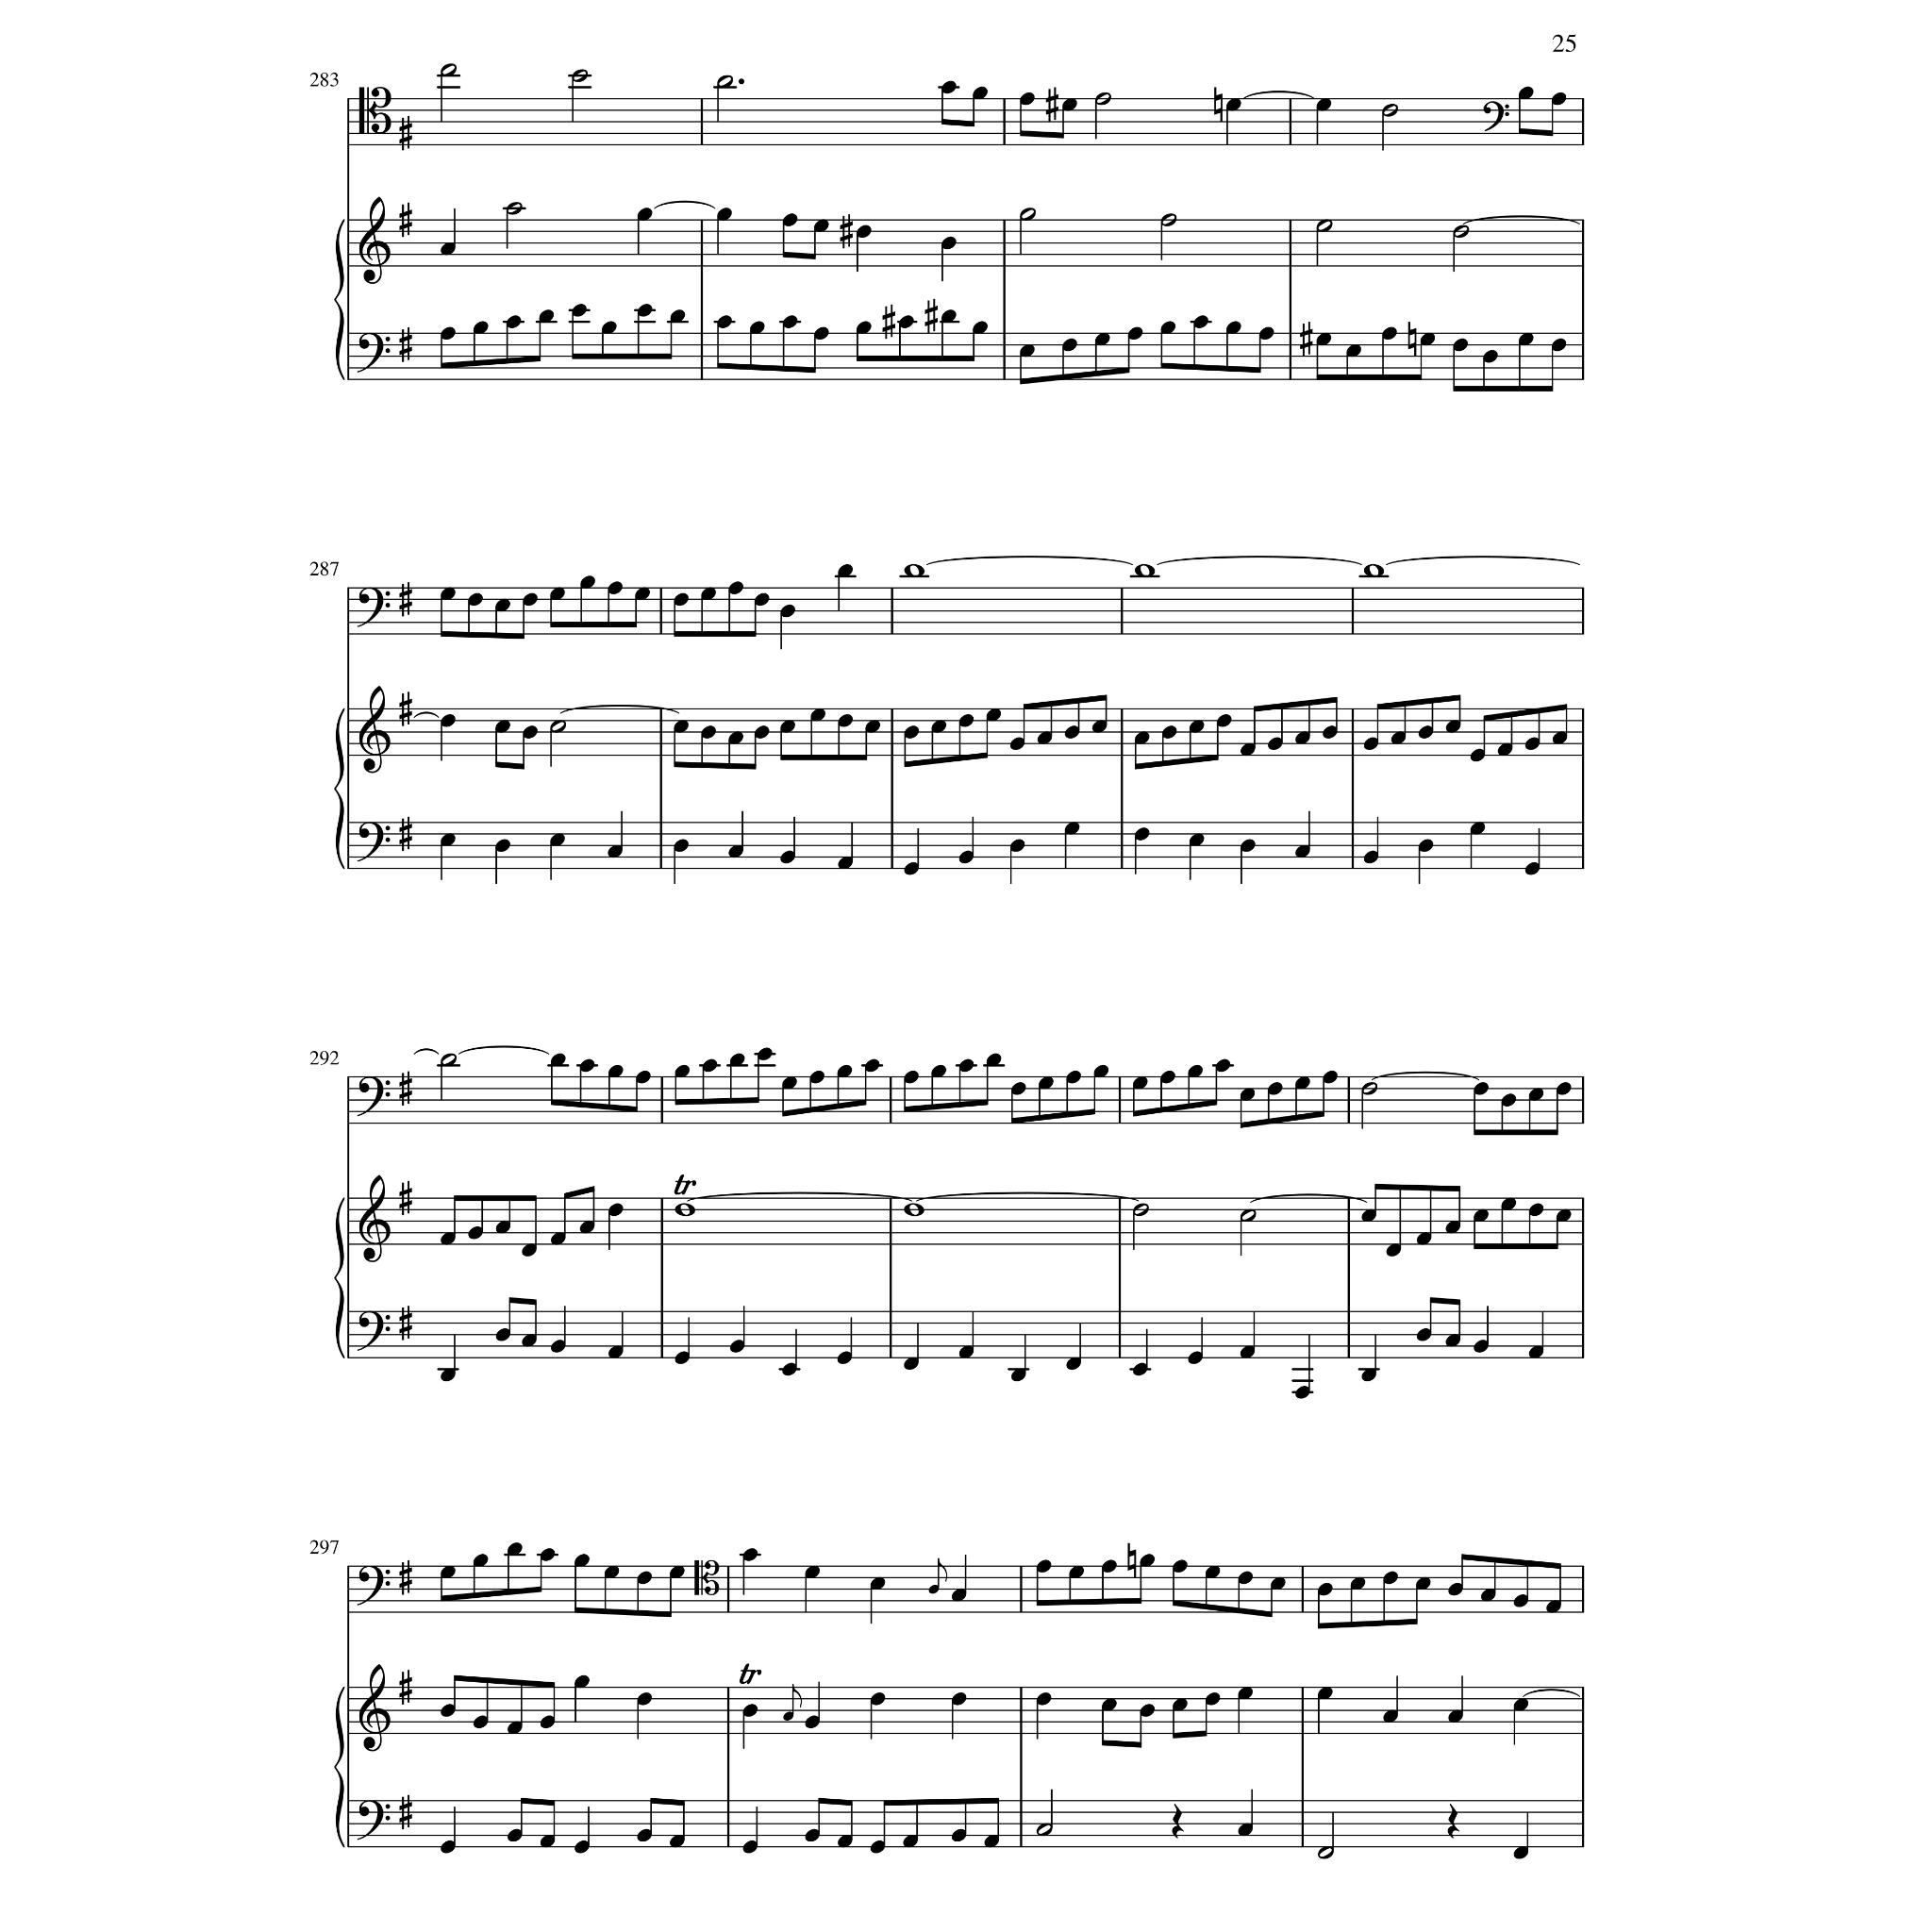brace: (333, 219, 344, 381), (333, 1197, 344, 1359), (333, 1686, 344, 1848), (333, 709, 344, 870)
fClef: (357, 332, 391, 374), (357, 587, 391, 628), (357, 1800, 391, 1841), (357, 823, 391, 862), (357, 1311, 391, 1351), (357, 1077, 391, 1117), (357, 1566, 391, 1606)
flag8thUp: (792, 1684, 802, 1708), (938, 1558, 947, 1583)
gClef: (358, 196, 391, 285), (358, 686, 391, 774), (358, 1174, 391, 1263), (358, 1663, 391, 1752)
noteheadBlack: (1345, 343, 1362, 358), (1019, 343, 1036, 358), (781, 213, 798, 228), (1036, 730, 1053, 745), (1551, 730, 1568, 745), (1294, 730, 1311, 745), (1158, 1070, 1175, 1085), (636, 1828, 653, 1843), (804, 1828, 821, 1843), (741, 1547, 758, 1562), (1134, 730, 1149, 745), (1064, 821, 1079, 836), (1470, 821, 1485, 836), (1391, 730, 1406, 745), (608, 581, 623, 596), (728, 730, 743, 745), (728, 581, 743, 596), (1215, 1058, 1230, 1074), (1323, 1070, 1338, 1085), (1066, 1070, 1081, 1085), (579, 1058, 594, 1074), (636, 1070, 651, 1085), (904, 1070, 919, 1085), (864, 1058, 879, 1074), (958, 1058, 974, 1074), (702, 1058, 717, 1074), (809, 1070, 824, 1085), (540, 1547, 555, 1562), (508, 1828, 523, 1843), (951, 1828, 966, 1843), (1192, 315, 1209, 328), (1315, 333, 1332, 346), (1315, 98, 1332, 111), (1126, 327, 1143, 341), (1517, 333, 1534, 346), (1517, 87, 1534, 100), (1381, 327, 1398, 341), (1419, 333, 1436, 346), (636, 304, 653, 317), (636, 208, 653, 221), (600, 322, 617, 335), (538, 309, 555, 323), (472, 322, 489, 335), (440, 327, 457, 341), (440, 242, 457, 256), (855, 322, 872, 335), (972, 87, 989, 100), (1019, 92, 1036, 106), (972, 322, 989, 335), (855, 225, 872, 239), (781, 315, 798, 328), (1240, 743, 1257, 757), (1240, 840, 1257, 853), (1215, 714, 1232, 727), (985, 708, 1002, 722), (930, 720, 947, 733), (1091, 720, 1108, 733), (1266, 738, 1283, 751), (1496, 743, 1513, 757), (1362, 738, 1379, 751), (1362, 851, 1379, 864), (1294, 845, 1311, 858), (1417, 725, 1434, 739), (1417, 840, 1434, 853), (579, 575, 596, 589), (549, 588, 566, 601), (549, 833, 566, 846), (440, 588, 457, 601), (440, 714, 457, 727), (494, 599, 511, 612), (494, 720, 511, 733), (494, 840, 511, 853), (440, 833, 457, 846), (466, 593, 483, 607), (809, 708, 826, 722), (779, 605, 796, 618), (779, 720, 796, 733), (779, 851, 796, 864), (864, 720, 881, 733), (700, 725, 717, 739), (700, 588, 717, 601), (753, 725, 770, 739), (753, 593, 770, 607), (1187, 1065, 1204, 1078), (1187, 1351, 1204, 1364), (1360, 1209, 1377, 1223), (1360, 1369, 1377, 1382), (1266, 1082, 1283, 1095), (1294, 1076, 1311, 1090), (1294, 1386, 1311, 1399), (1092, 1065, 1109, 1078), (1132, 1076, 1149, 1090), (1132, 1363, 1149, 1376), (1555, 1082, 1572, 1095), (1555, 1209, 1572, 1223), (1500, 1093, 1517, 1107), (1500, 1198, 1517, 1211), (1385, 1243, 1402, 1257), (1415, 1232, 1432, 1245), (1415, 1328, 1432, 1341), (549, 1054, 566, 1067), (549, 1232, 566, 1245), (549, 1340, 566, 1353), (674, 1351, 691, 1364), (674, 1065, 691, 1078), (440, 1232, 457, 1245), (440, 1369, 457, 1382), (494, 1328, 511, 1341), (521, 1243, 538, 1257), (521, 1334, 538, 1347), (494, 1221, 511, 1234), (836, 1065, 853, 1078), (836, 1351, 853, 1364), (985, 1054, 1002, 1067), (930, 1065, 947, 1078), (781, 1363, 798, 1376), (781, 1076, 798, 1090), (757, 1048, 774, 1061), (728, 1340, 745, 1353), (728, 1054, 745, 1067), (1204, 1566, 1221, 1579), (1172, 1698, 1189, 1711), (1172, 1559, 1189, 1573), (1204, 1692, 1221, 1706), (1270, 1577, 1287, 1591), (983, 1835, 1000, 1848), (1100, 1698, 1117, 1711), (1100, 1559, 1117, 1573), (1068, 1566, 1085, 1579), (1545, 1600, 1562, 1613), (1479, 1589, 1496, 1602), (1447, 1709, 1464, 1723), (1447, 1583, 1464, 1596), (1415, 1577, 1432, 1591), (1349, 1577, 1366, 1591), (574, 1554, 591, 1567), (574, 1675, 591, 1689), (574, 1840, 591, 1854), (636, 1571, 653, 1584), (636, 1692, 653, 1706), (440, 1566, 457, 1579), (472, 1554, 489, 1567), (472, 1715, 489, 1728), (440, 1840, 457, 1854), (440, 1704, 457, 1717), (804, 1715, 821, 1728), (804, 1566, 821, 1579), (902, 1835, 919, 1848), (741, 1840, 758, 1854), (741, 1704, 758, 1717), (668, 1835, 685, 1848), (668, 1566, 685, 1579), (1226, 98, 1241, 111), (1226, 322, 1241, 335), (1160, 322, 1175, 335), (1258, 327, 1274, 341), (1062, 98, 1077, 111), (1094, 333, 1109, 346), (1062, 339, 1077, 352), (1551, 339, 1566, 352), (1551, 92, 1566, 106), (1483, 350, 1498, 363), (1453, 339, 1468, 352), (572, 304, 587, 317), (717, 315, 732, 328), (717, 208, 732, 221), (670, 309, 685, 323), (506, 315, 521, 328), (941, 309, 957, 323), (941, 237, 957, 250), (941, 81, 957, 94), (898, 315, 913, 328), (749, 322, 764, 335), (813, 220, 828, 233), (813, 327, 828, 341), (1162, 725, 1177, 739), (1134, 827, 1149, 841), (1189, 720, 1204, 733), (1189, 833, 1204, 846), (1009, 738, 1024, 751), (1009, 840, 1024, 853), (958, 714, 974, 727), (958, 851, 974, 864), (1064, 725, 1079, 739), (1524, 738, 1540, 751), (1524, 862, 1540, 875), (1445, 720, 1460, 733), (1470, 749, 1485, 762), (1323, 725, 1338, 739), (523, 593, 538, 607), (523, 725, 538, 739), (608, 845, 623, 858), (674, 840, 689, 853), (635, 588, 650, 601), (674, 593, 689, 607), (674, 720, 689, 733), (838, 564, 853, 577), (838, 714, 853, 727), (838, 857, 853, 870), (904, 725, 919, 739), (904, 862, 919, 875), (728, 845, 743, 858), (1240, 1345, 1255, 1358), (1240, 1088, 1255, 1101), (1066, 1357, 1081, 1371), (1011, 1369, 1026, 1382), (1038, 1076, 1053, 1090), (1528, 1345, 1543, 1358), (1528, 1088, 1543, 1101), (1528, 1203, 1543, 1216), (1474, 1082, 1489, 1095), (1474, 1209, 1489, 1223), (1474, 1340, 1489, 1353), (1445, 1221, 1460, 1234), (1445, 1334, 1460, 1347), (579, 1221, 594, 1234), (608, 1065, 623, 1078), (608, 1203, 623, 1216), (608, 1345, 623, 1358), (1011, 1082, 1026, 1095), (468, 1226, 483, 1240), (904, 1357, 919, 1371), (958, 1345, 974, 1358), (1238, 1823, 1253, 1836), (1238, 1687, 1253, 1700), (1238, 1571, 1253, 1584), (1036, 1692, 1051, 1706), (1036, 1559, 1051, 1573), (1140, 1554, 1155, 1567), (1140, 1704, 1155, 1717), (1513, 1846, 1528, 1859), (1513, 1698, 1528, 1711), (1513, 1594, 1528, 1607), (1317, 1687, 1332, 1700), (1317, 1583, 1332, 1596), (1383, 1709, 1398, 1723), (1383, 1571, 1398, 1584), (540, 1715, 555, 1728), (540, 1835, 555, 1848), (604, 1566, 619, 1579), (508, 1542, 523, 1556), (508, 1721, 523, 1734), (838, 1835, 853, 1848), (870, 1577, 885, 1591), (870, 1692, 885, 1706), (870, 1840, 885, 1854), (951, 1589, 966, 1602), (951, 1692, 966, 1706), (927, 1585, 939, 1594), (782, 1711, 793, 1721)
noteheadHalf: (1160, 214, 1177, 227), (1316, 220, 1333, 233), (1094, 92, 1111, 106), (1381, 104, 1398, 117), (1453, 225, 1470, 239), (571, 70, 588, 83), (716, 75, 733, 89), (506, 203, 523, 216), (440, 64, 457, 77), (1019, 208, 1036, 221), (549, 720, 566, 733), (1240, 1209, 1257, 1223), (1360, 1082, 1377, 1095), (1132, 1203, 1149, 1216), (440, 1054, 457, 1067), (1036, 1823, 1053, 1836), (1317, 1846, 1334, 1859)
noteheadWhole: (1362, 564, 1385, 577), (674, 1204, 696, 1217), (1134, 564, 1155, 577), (904, 564, 924, 577), (904, 1204, 924, 1217)
restQuarter: (1447, 1803, 1460, 1839), (1172, 1803, 1183, 1839)
